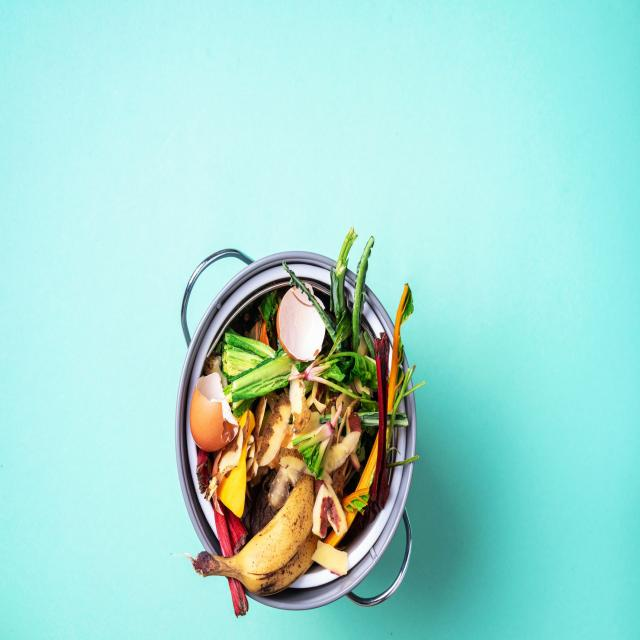Food -Biodegradable-: (192, 280, 403, 615)
